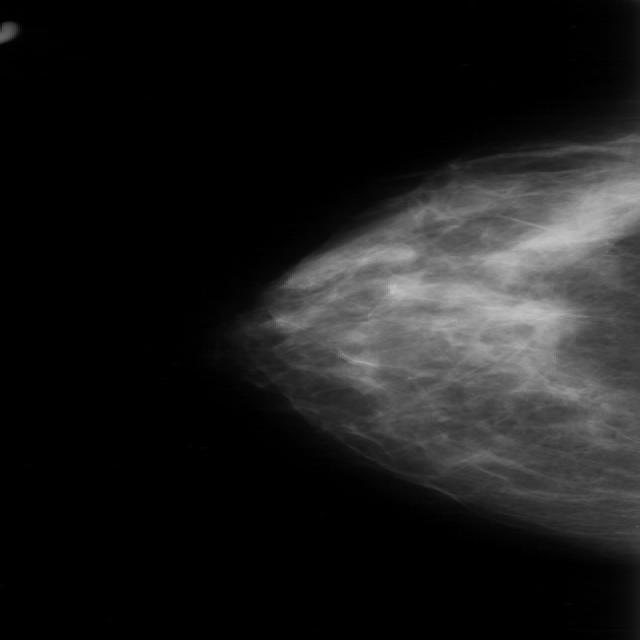tumour: (504, 299, 564, 327)
